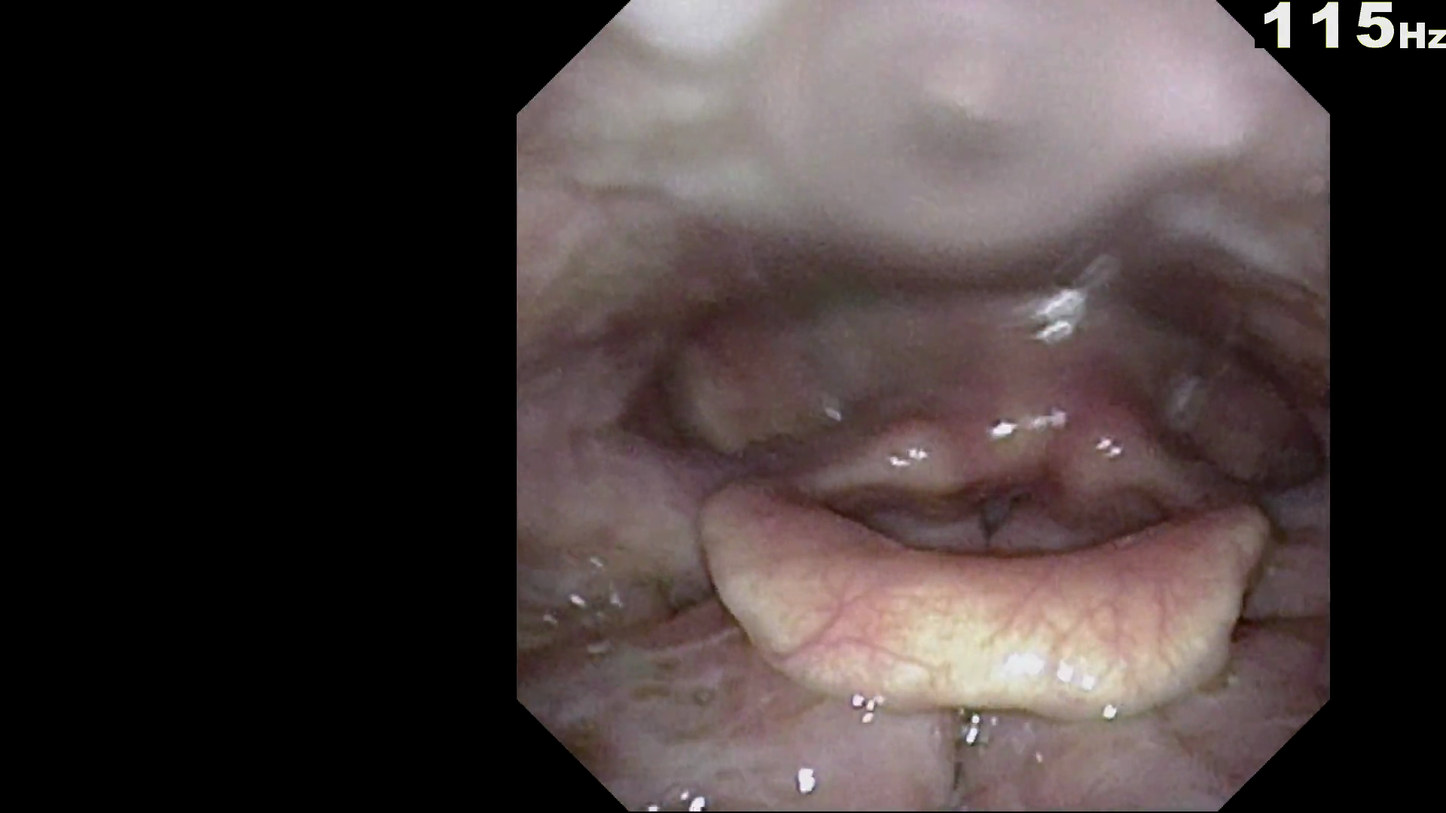epiglottis: (671, 510, 1279, 731)
trachea: (969, 481, 1037, 549)
